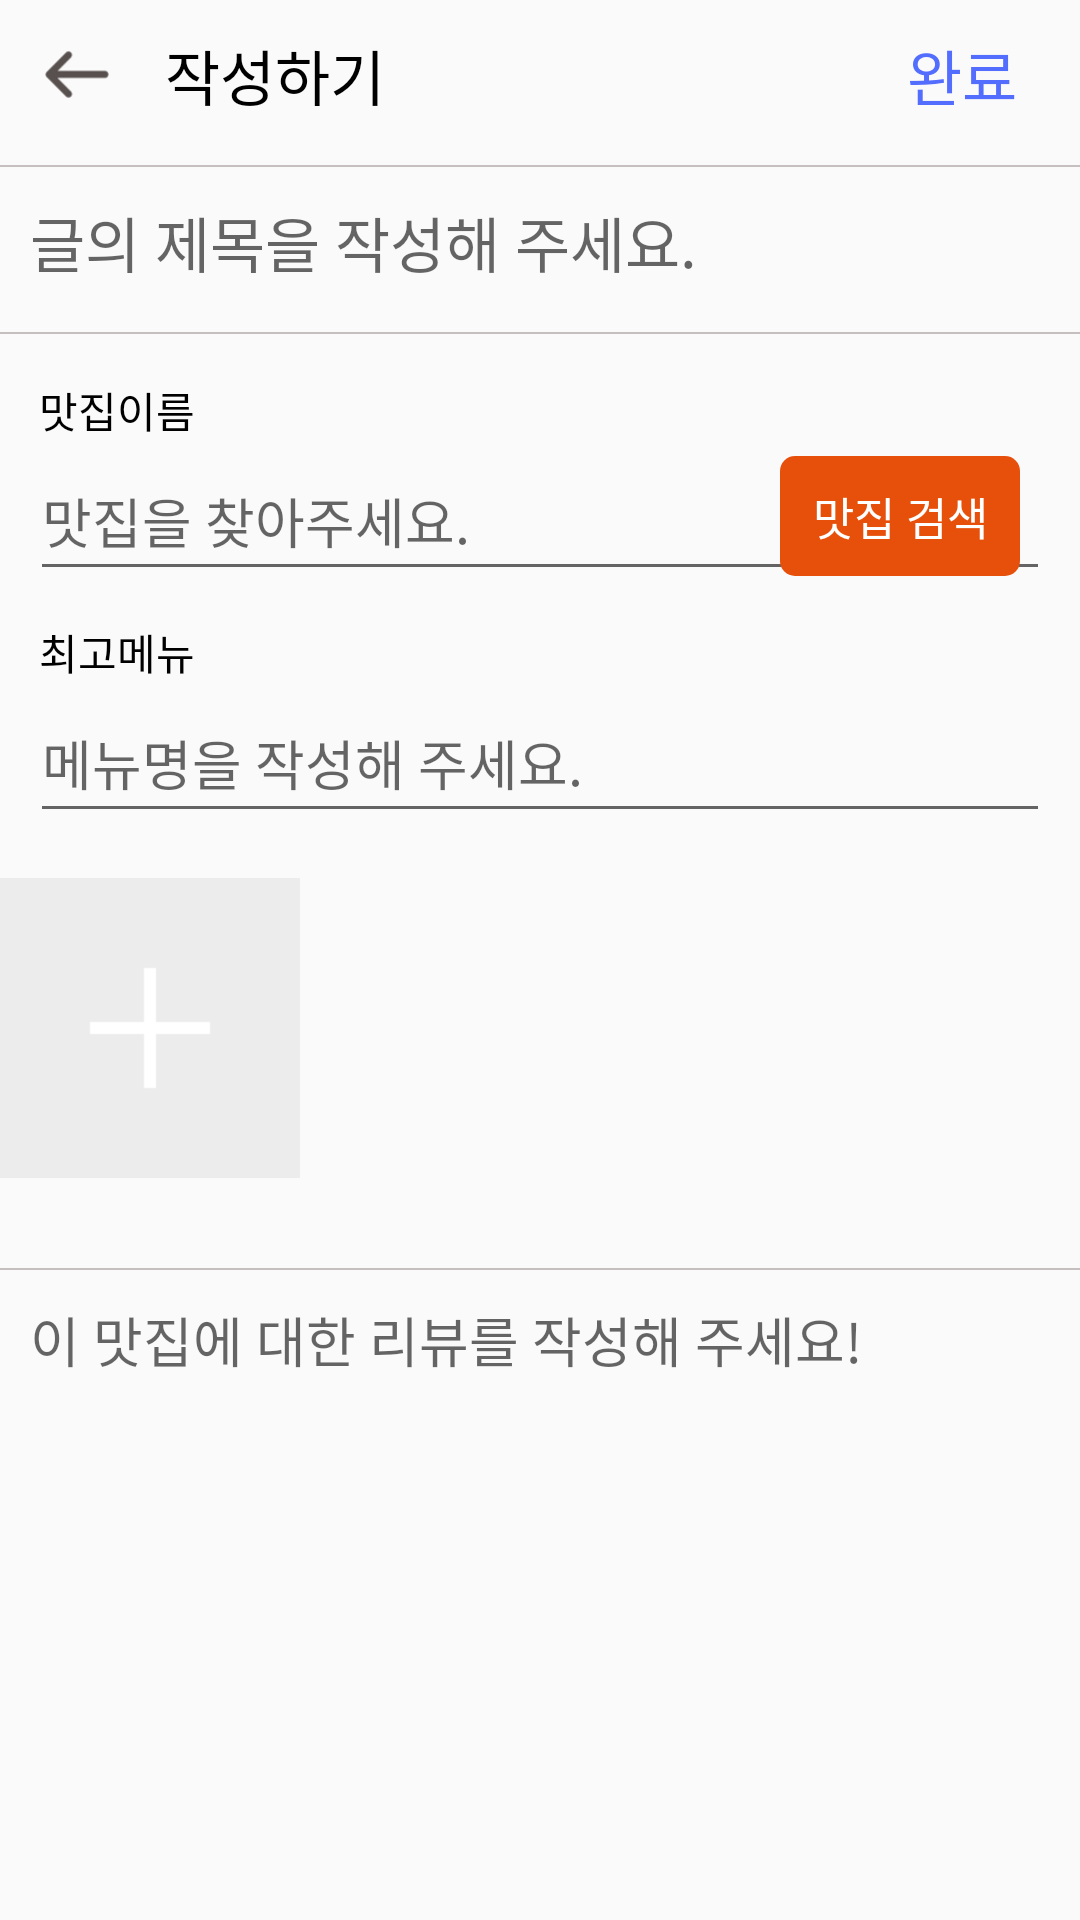

Icons on this 1080×1920 Android screen, each with its box as (x1, y1, x2, y2):
back arrow: (45, 51, 109, 98)
